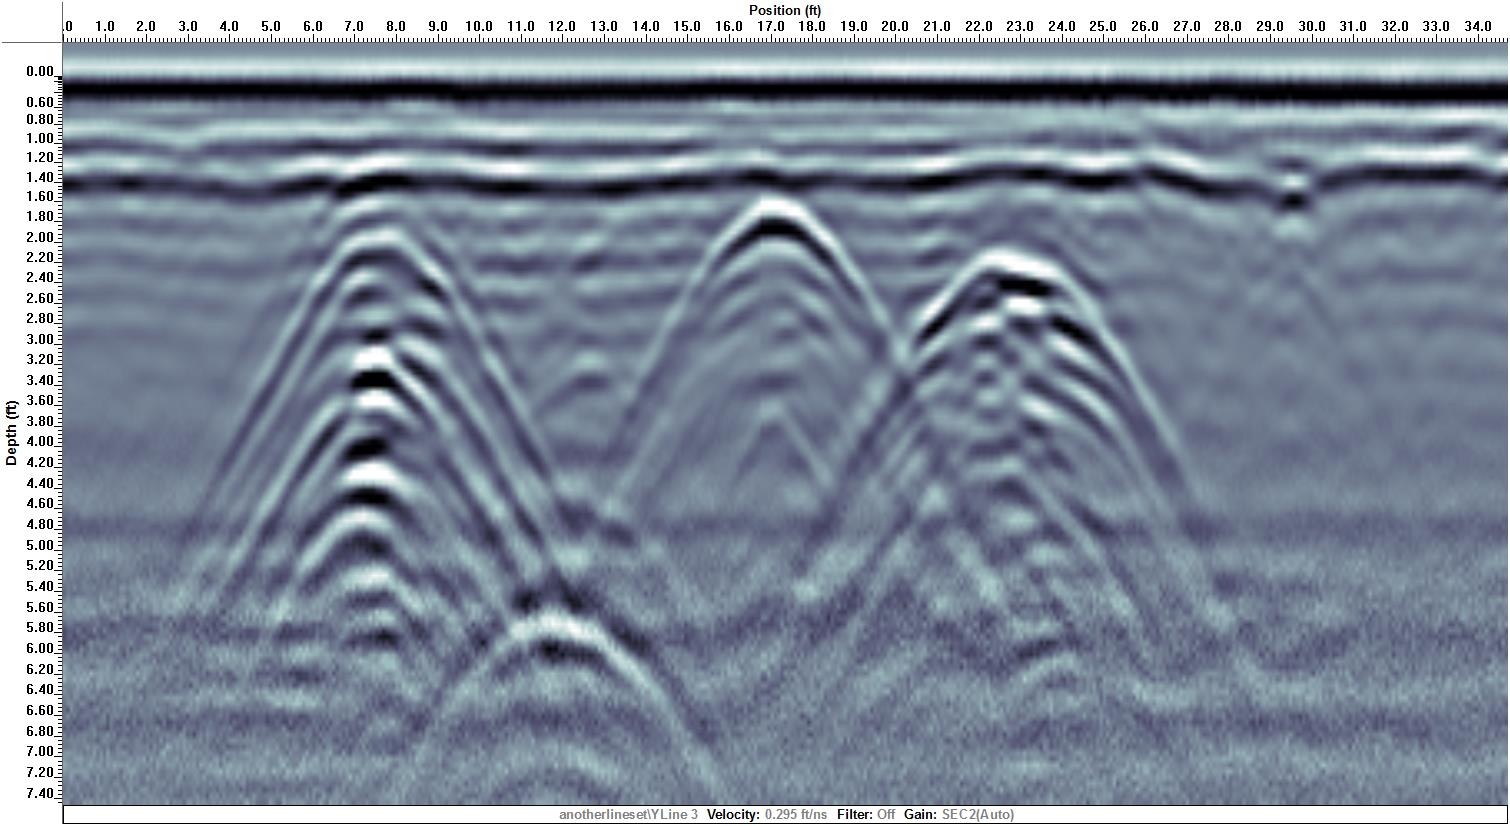hyperbola: (191, 206, 561, 609), (836, 241, 1188, 610), (611, 192, 906, 476), (407, 589, 706, 789)
